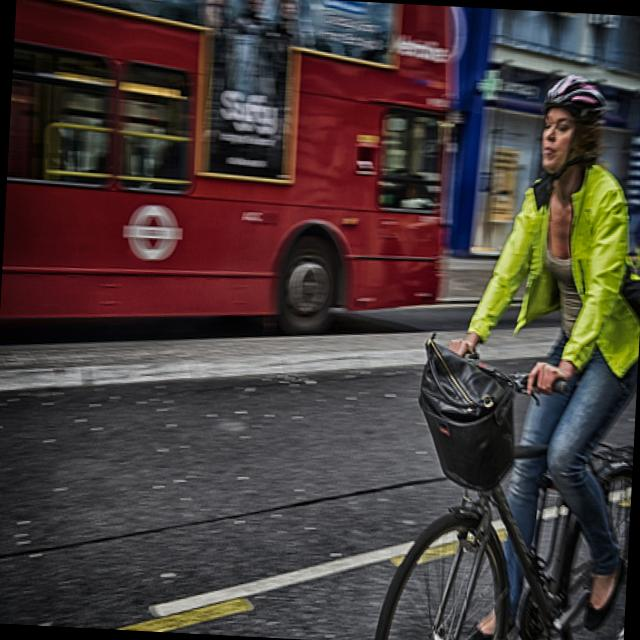Vehicle: (0, 0, 457, 344)
